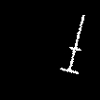double_crochet: (61, 15, 84, 73)
